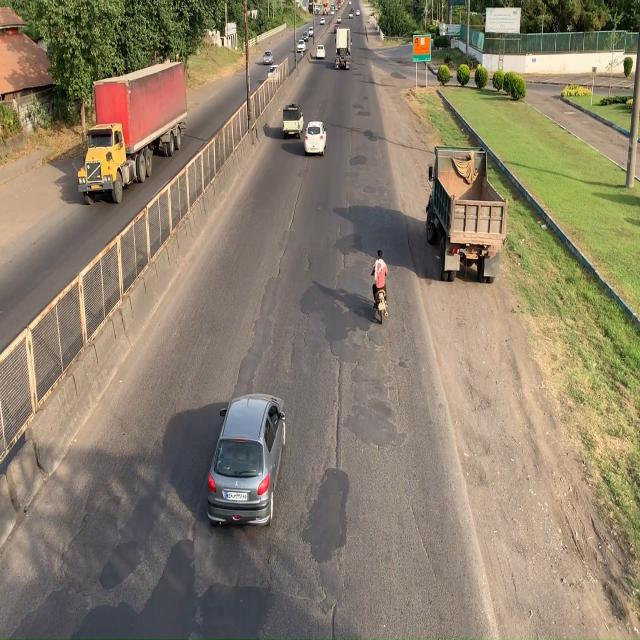Truck: (427, 142, 505, 282), (78, 79, 164, 203)
cars: (207, 390, 286, 538), (283, 101, 303, 138), (306, 120, 326, 156)
